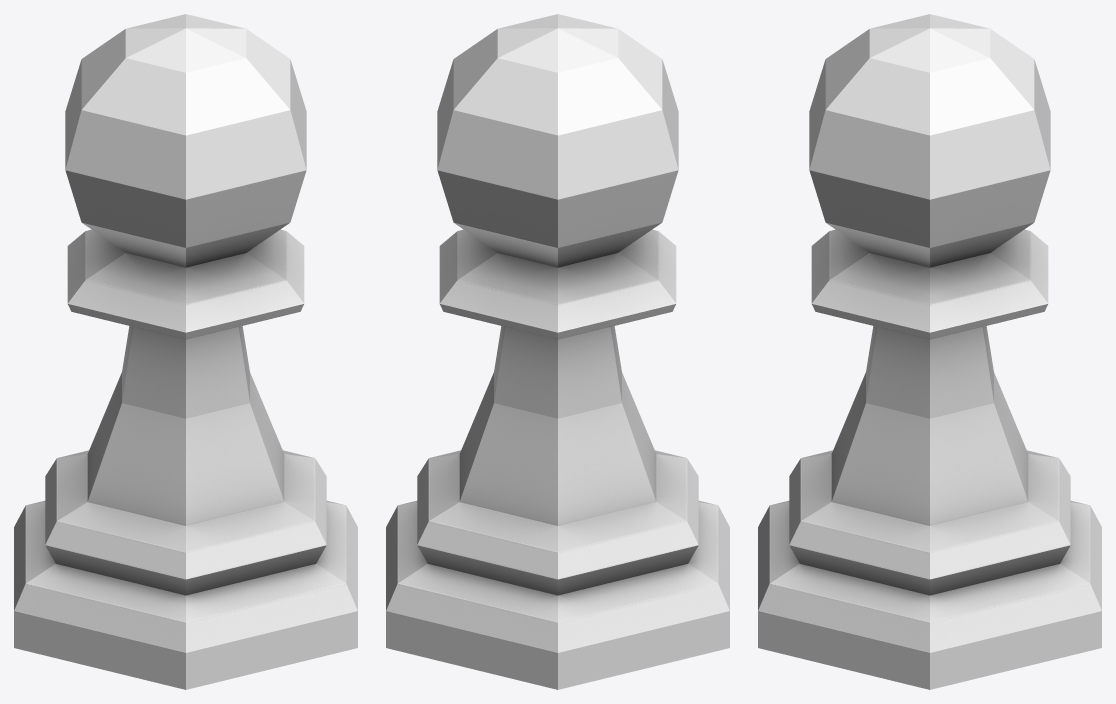
Rendered from pawn.fbx.
3 views of the same model, side by side, from view 1: azimuth 30°, elevation 25°; view 2: azimuth 150°, elevation 25°; view 3: azimuth 270°, elevation 25° (orthographic).
Visible parts, largest first — view 1: Pawn; view 2: Pawn; view 3: Pawn.
Part boxes in pixels (x1,y1,x2,y2): Pawn: (14,14,357,689); Pawn: (386,14,729,689); Pawn: (758,14,1101,689).
Bounding box in the file's own units: 75.59 × 121 × 65.46.
